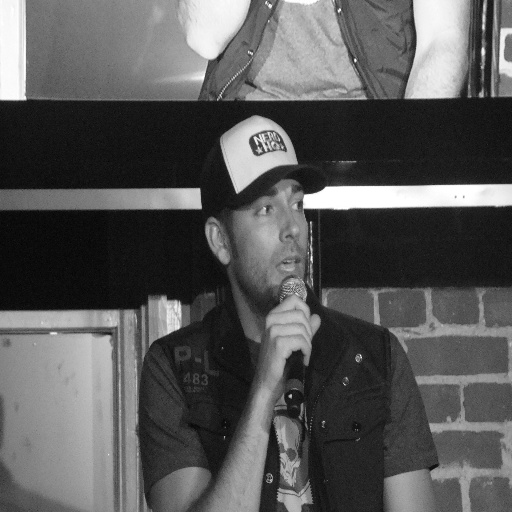hand: (237, 292, 322, 430)
